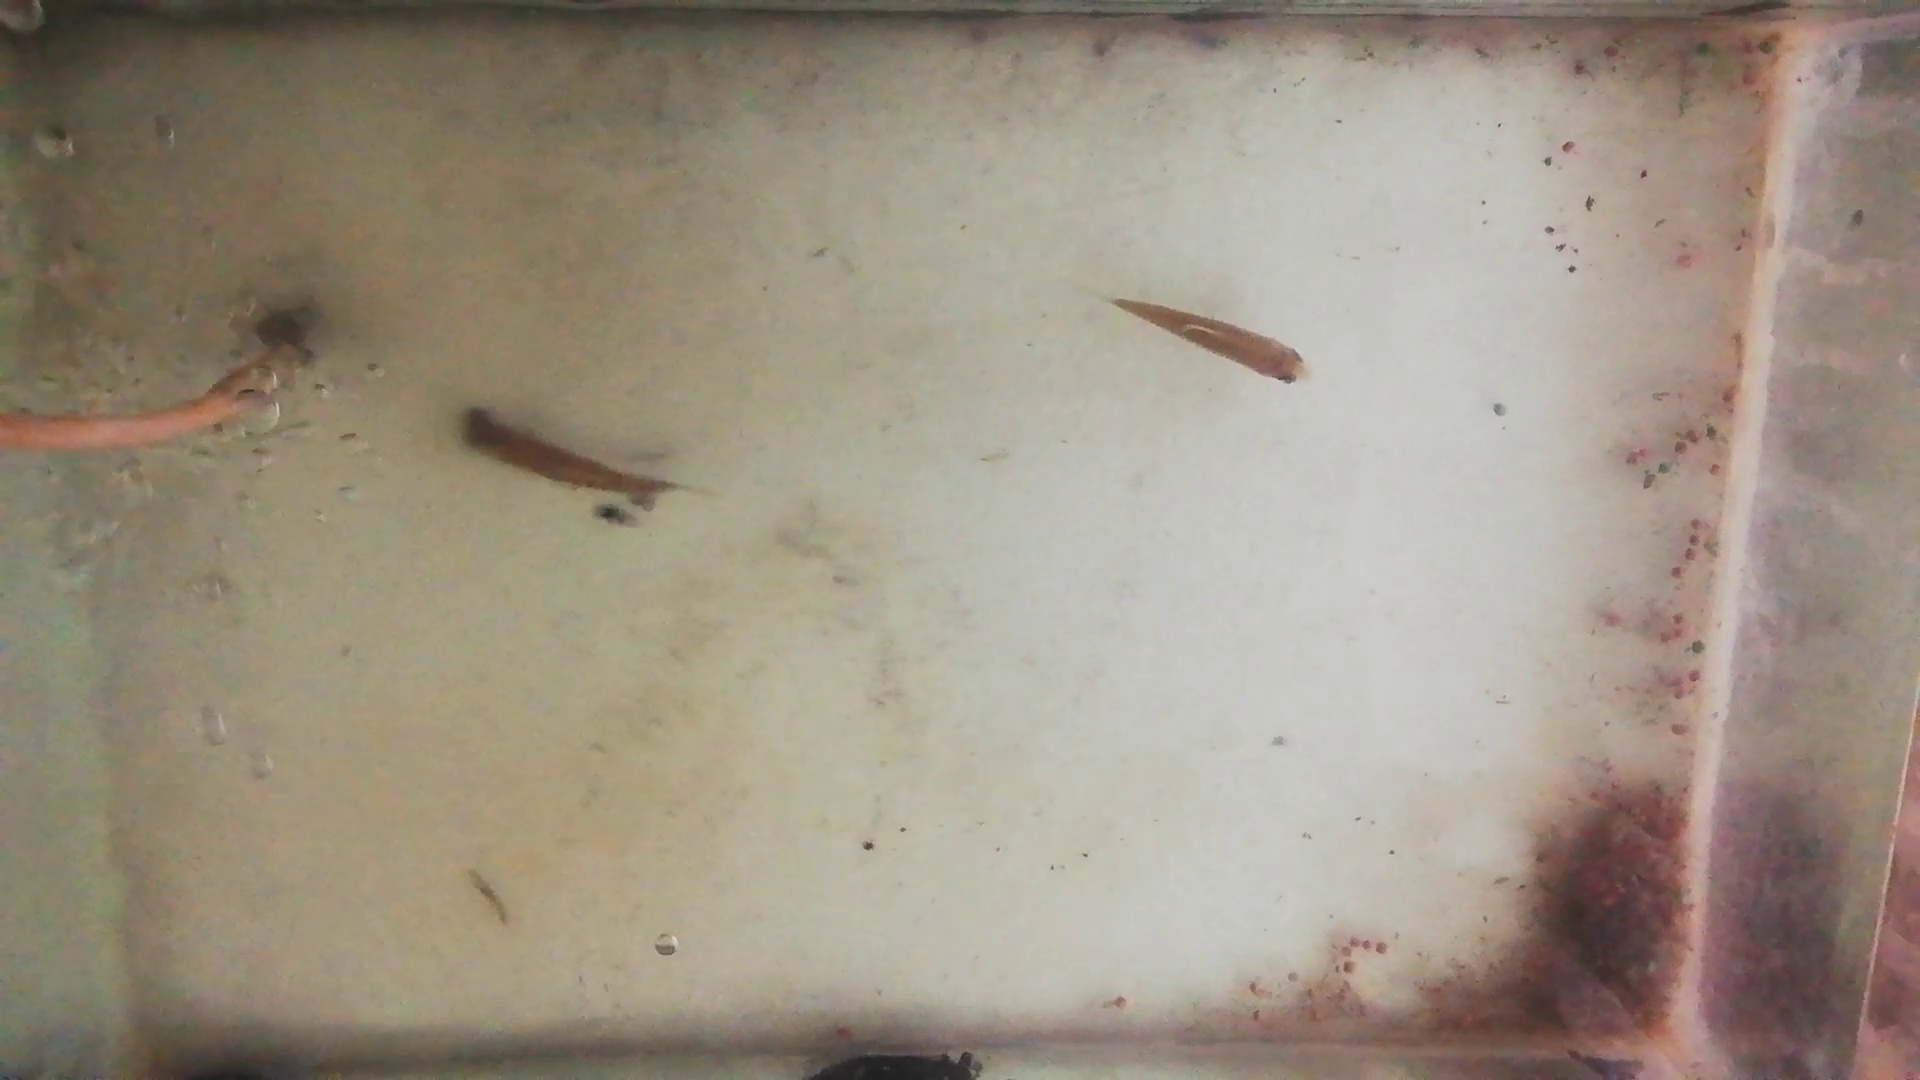fish: (456, 406, 675, 502), (1112, 299, 1313, 386)
